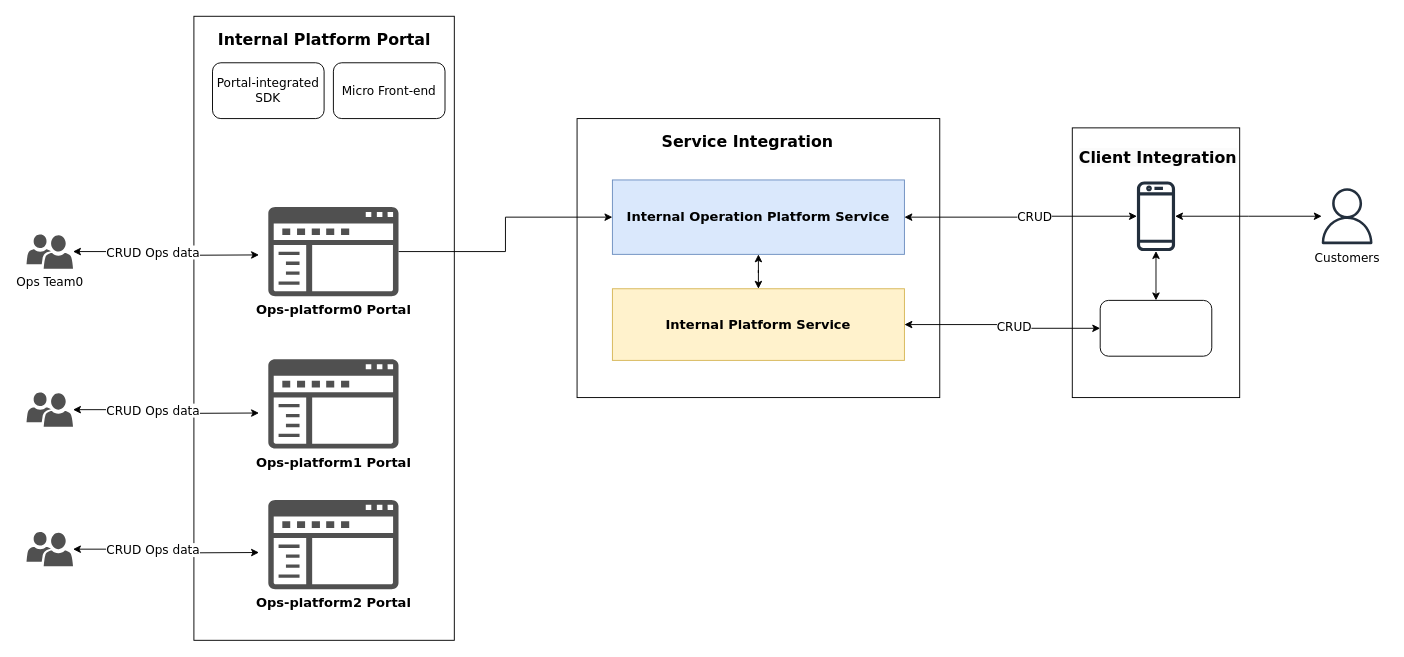
The diagram is 1404 pixels wide and 657 high, and some of its shapes have lost their labels. Each missing label, with the centre of its shape:
"App-integrated SDK" belongs at (x=1155, y=327).
"Mobile APP" belongs at (x=1155, y=215).
"Ops Team1" belongs at (x=49, y=409).
"Ops Team2" belongs at (x=49, y=548).
